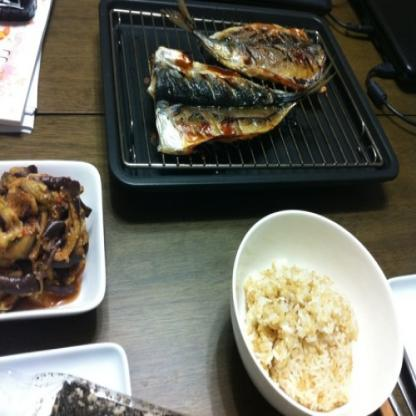Peixe: (127, 8, 333, 162)
